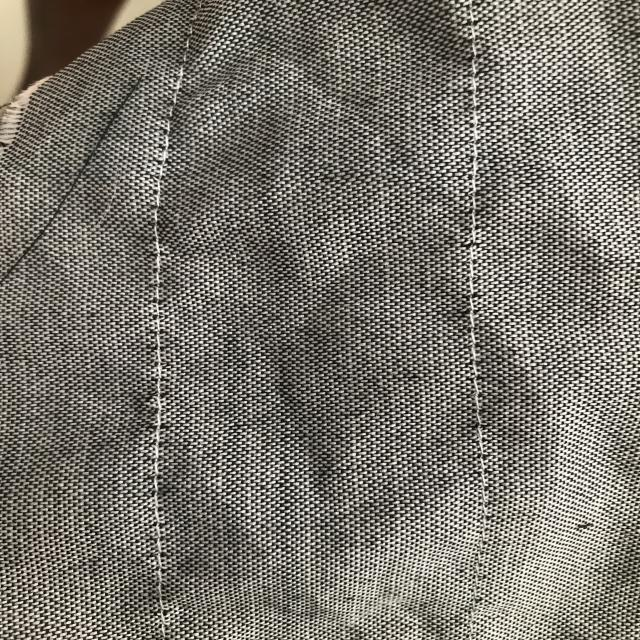good: (450, 300, 499, 486), (134, 313, 176, 524)
